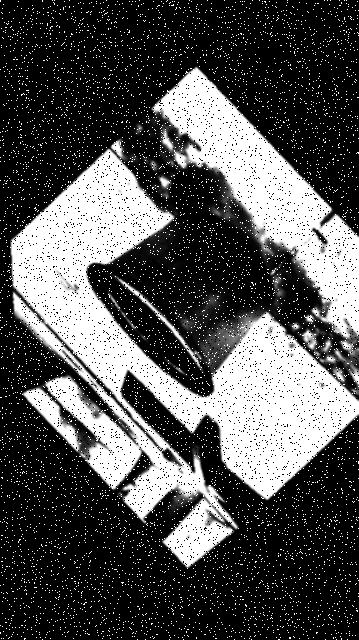pot: (86, 210, 273, 396)
